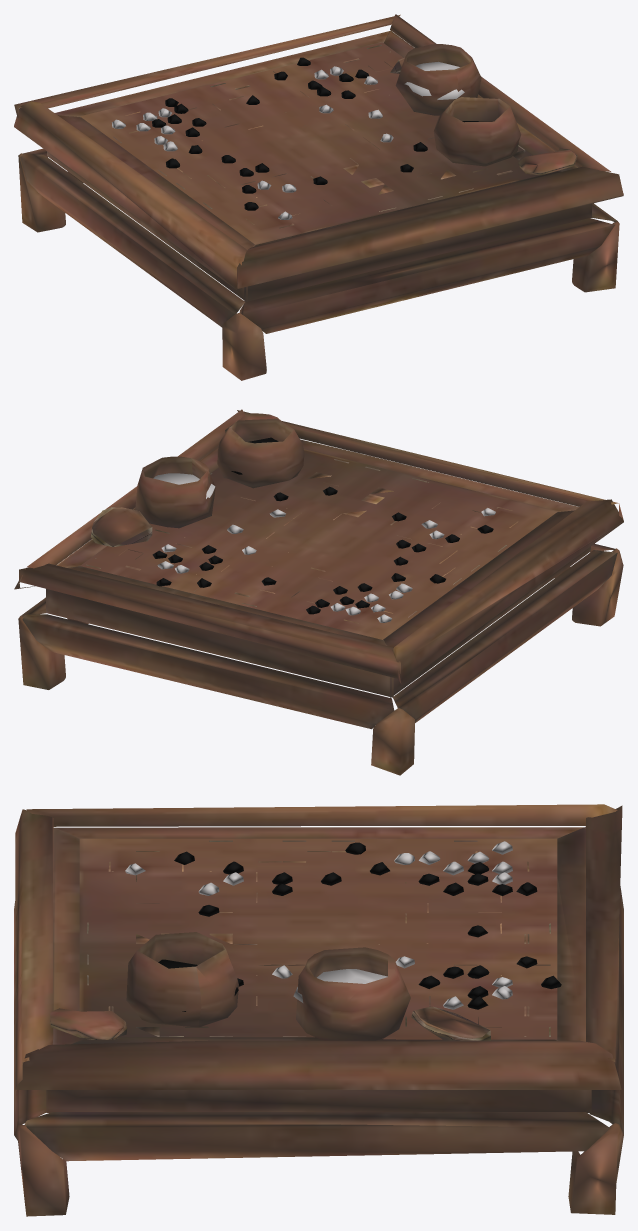
3 views of the same model, one above another, from view 1: azimuth 30°, elevation 25°; view 2: azimuth 150°, elevation 25°; view 3: azimuth 270°, elevation 25° (orthographic). The views are drawn at different scales.
Visible parts, largest first — view 1: Obj3d66-9730601-6-951, Obj3d66-9730601-2-816, Obj3d66-9730601-85-228, Obj3d66-9730601-36-20; view 2: Obj3d66-9730601-6-951, Obj3d66-9730601-2-816, Obj3d66-9730601-85-228, Obj3d66-9730601-36-20; view 3: Obj3d66-9730601-6-951, Obj3d66-9730601-2-816, Obj3d66-9730601-85-228, Obj3d66-9730601-36-20.
Part boxes in pixels (bbox=[...]): Obj3d66-9730601-6-951: bbox=[14, 14, 623, 380]; Obj3d66-9730601-2-816: bbox=[390, 44, 577, 175]; Obj3d66-9730601-85-228: bbox=[152, 57, 494, 210]; Obj3d66-9730601-36-20: bbox=[112, 61, 464, 219]; Obj3d66-9730601-6-951: bbox=[14, 409, 623, 775]; Obj3d66-9730601-2-816: bbox=[91, 413, 304, 547]; Obj3d66-9730601-85-228: bbox=[152, 437, 493, 614]; Obj3d66-9730601-36-20: bbox=[153, 473, 495, 622]; Obj3d66-9730601-6-951: bbox=[14, 804, 623, 1216]; Obj3d66-9730601-2-816: bbox=[50, 932, 490, 1040]; Obj3d66-9730601-85-228: bbox=[158, 842, 561, 1011]; Obj3d66-9730601-36-20: bbox=[125, 841, 512, 1009].
Bounding box in the file's own units: 1.2 × 0.4664 × 1.2.
4 materials, 2 textured.
